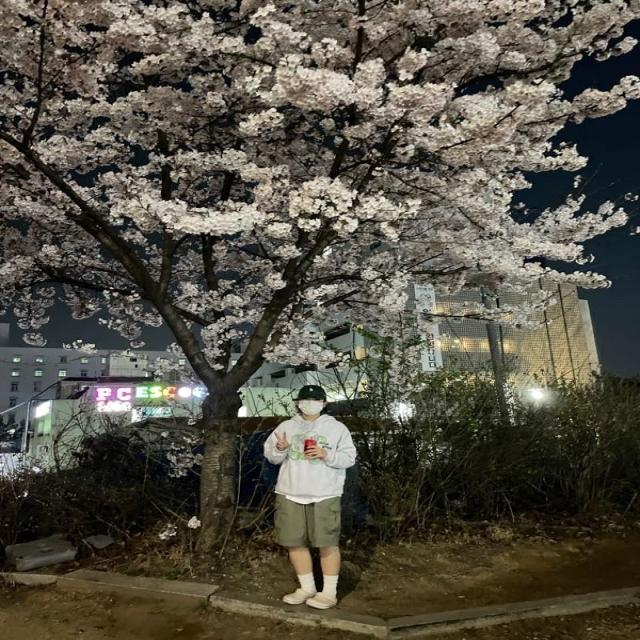hoodies: (264, 412, 357, 506)
shortpants: (272, 494, 343, 549)
